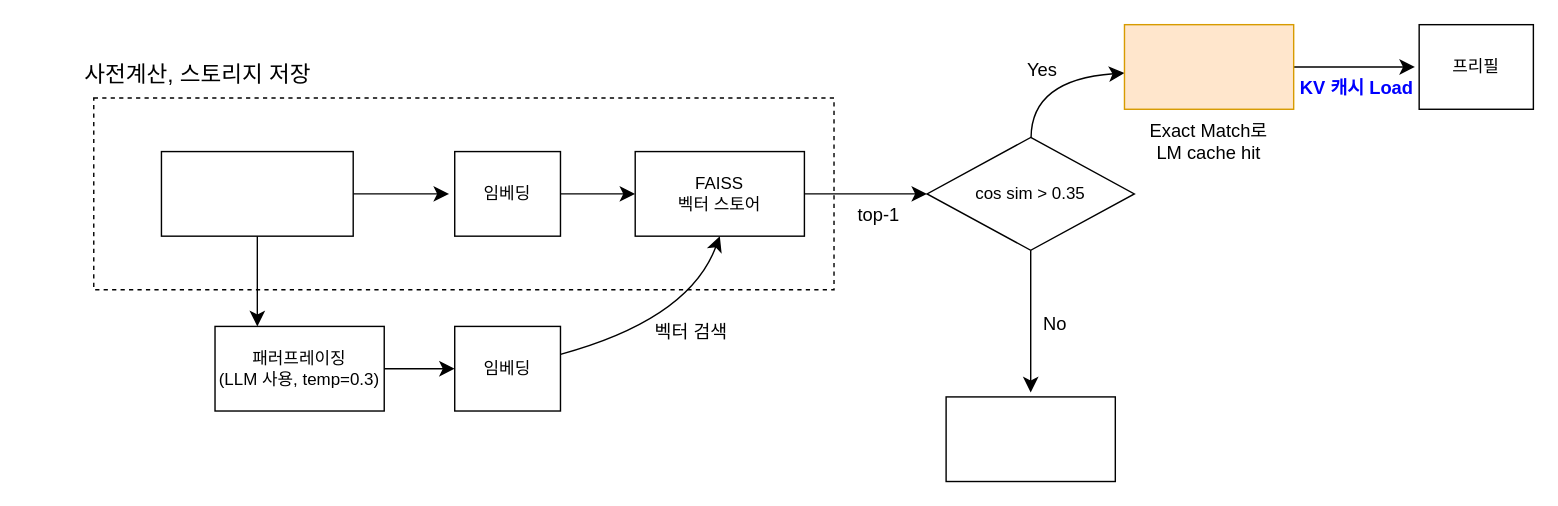
The diagram is 1558 pixels wide and 506 high, and some of its shapes have lost their labels. Each missing label, with the centre of its shape:
공개 데이터셋 (Squad, NewsQA 등): (256,193)
원본 문장으로 대체하여 입력: (1208,66)
입력 전체 재계산: (1030,439)
